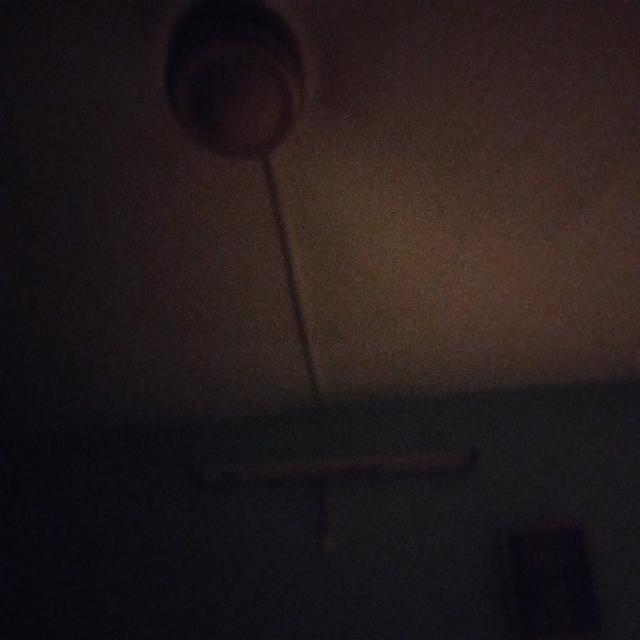tubelight_off: (196, 445, 480, 480)
